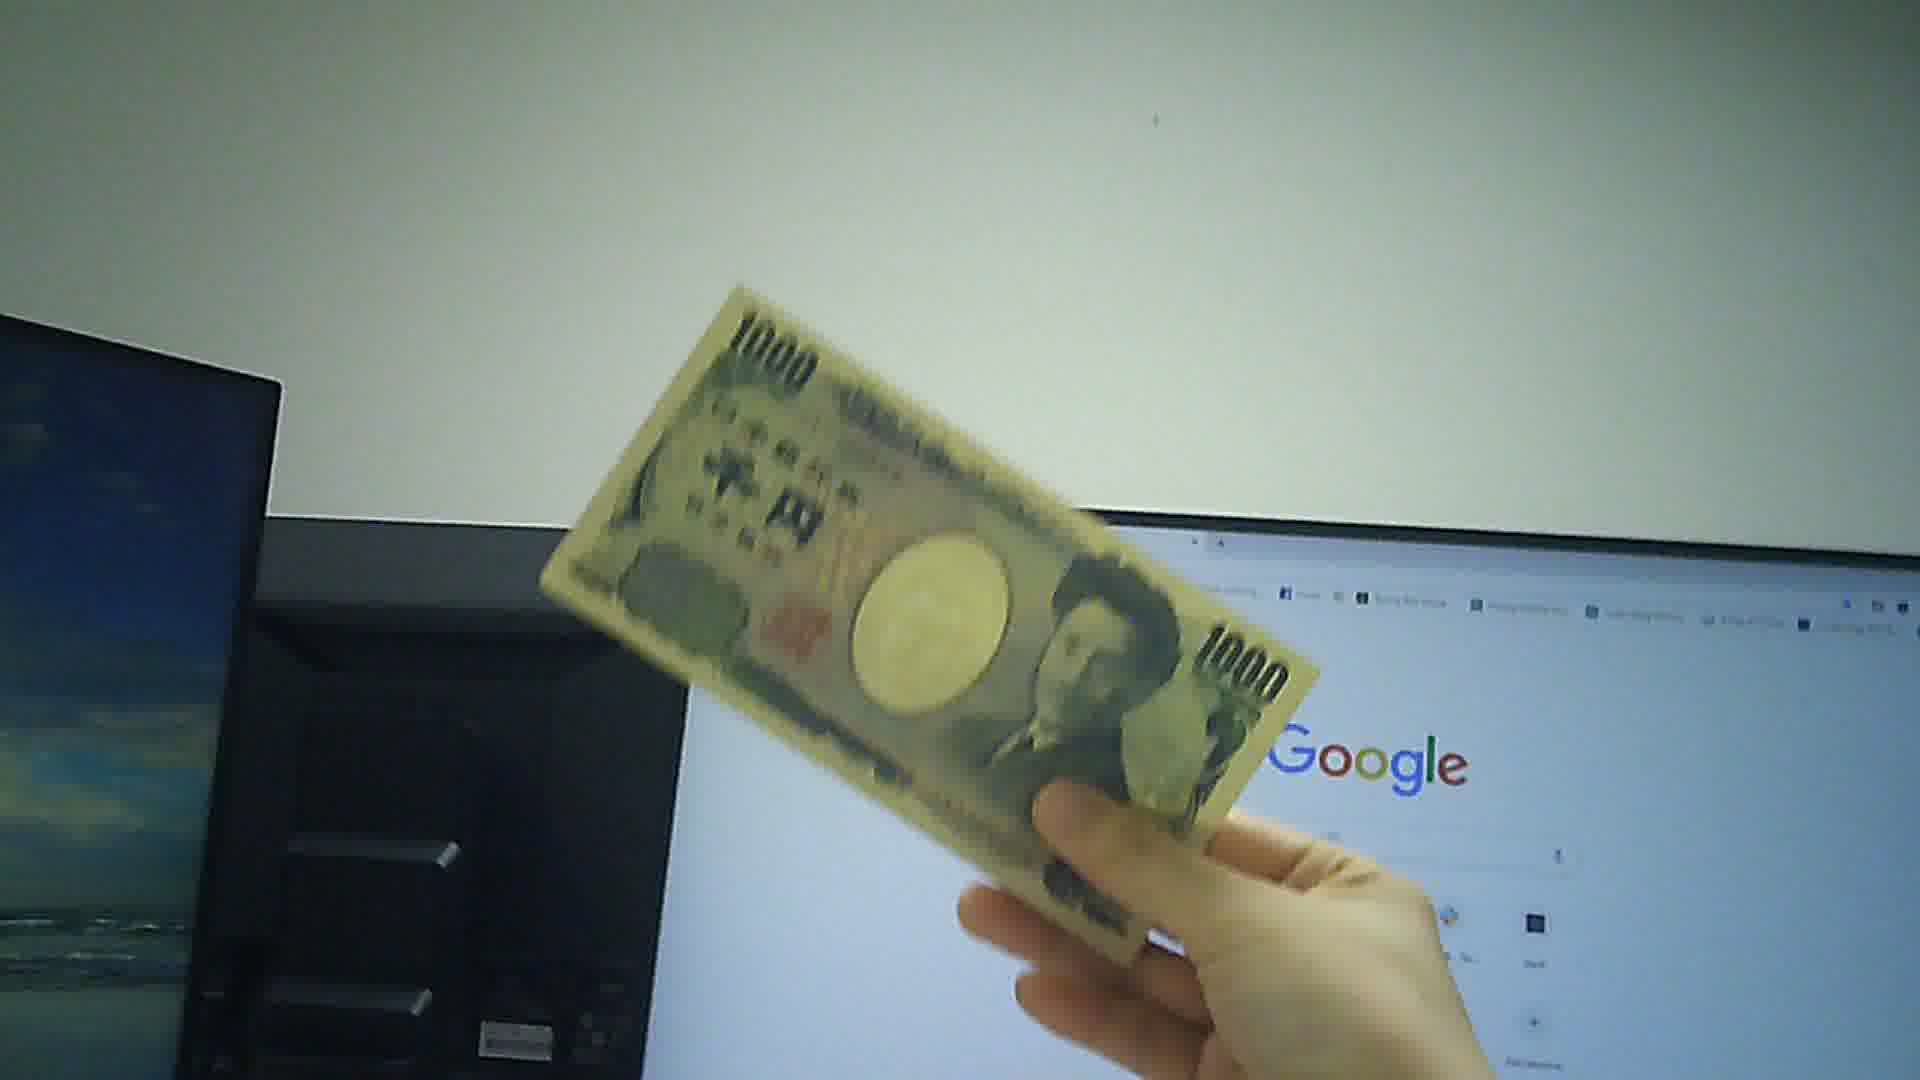1,000 Yen: (527, 284, 1305, 959)
